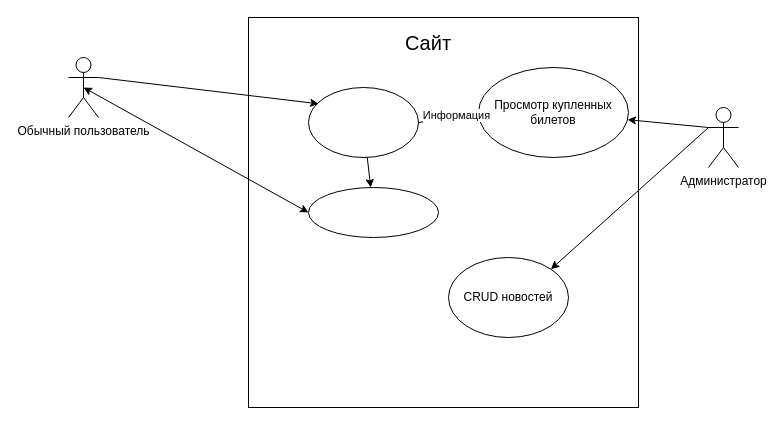
The diagram is 784 pixels wide and 425 high, and some of its shapes have lost their labels. Here are the shapes that lost their labels. From the top down, the centre of each, then its label:
At (363,122): "Покупка билета".
At (373,212): "Приходит чек об оплате на почту".
